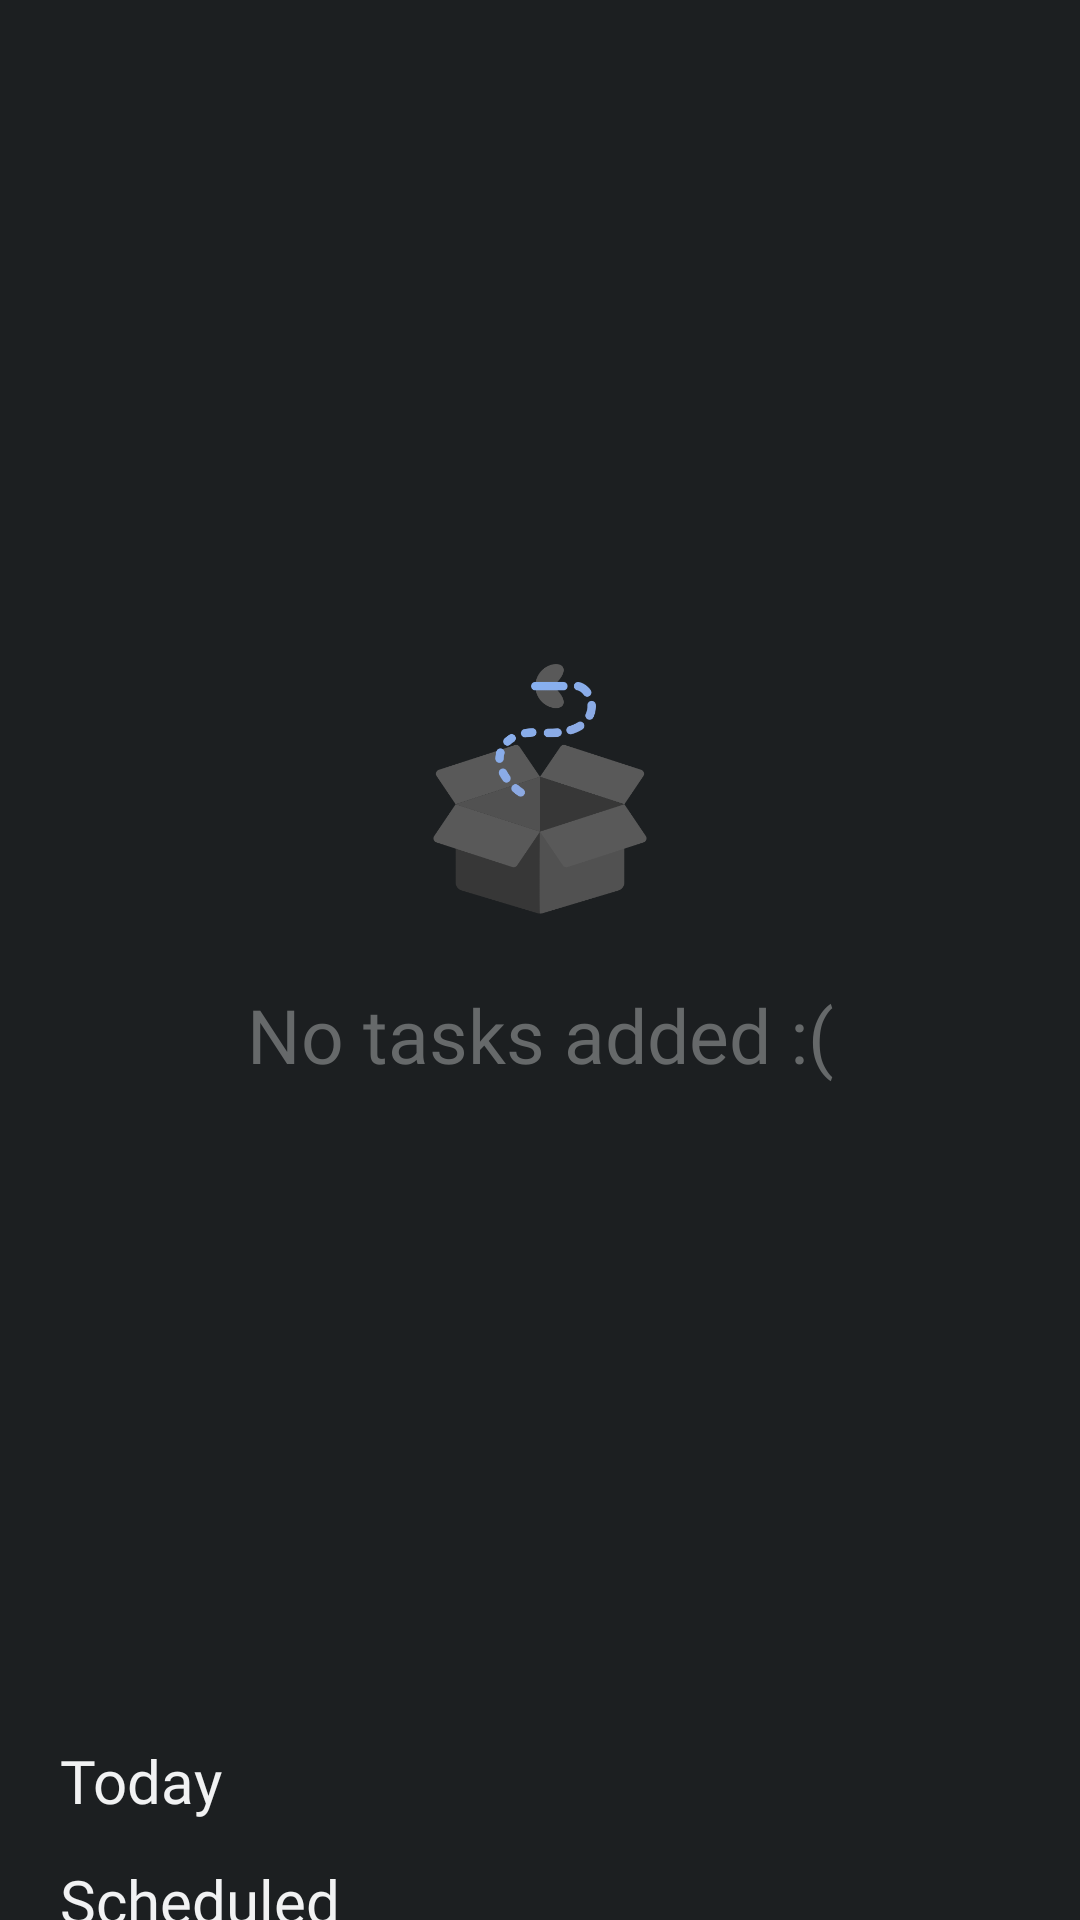

Locate icon controls on the screen. Image size 1080*1920, boxes as [left=x1, top=y1, right=x2, bottom=y2].
empty: [left=433, top=664, right=647, bottom=914]
